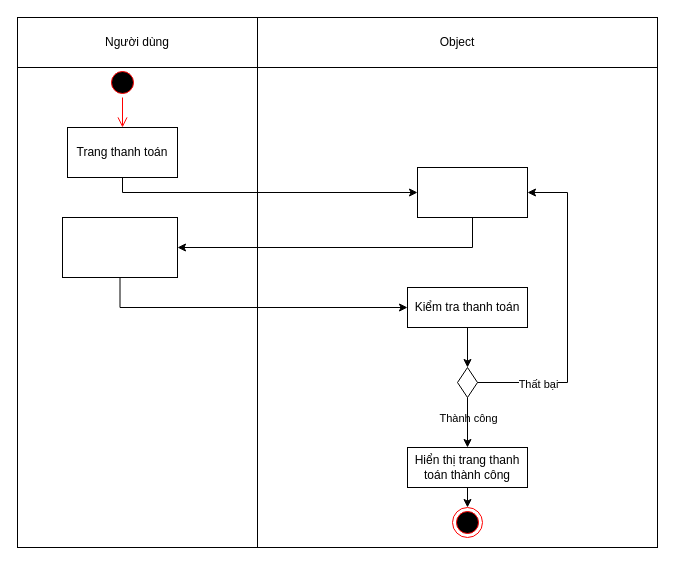
This 675x565 diagram has some shape labels left out. The centre of each missing label's shape, as x and y in pixels:
"Chọn các lựa chọn thanh toán" goes at point 120,247.
"Hiển thị giao diện trang thanh toán" goes at point 472,192.
